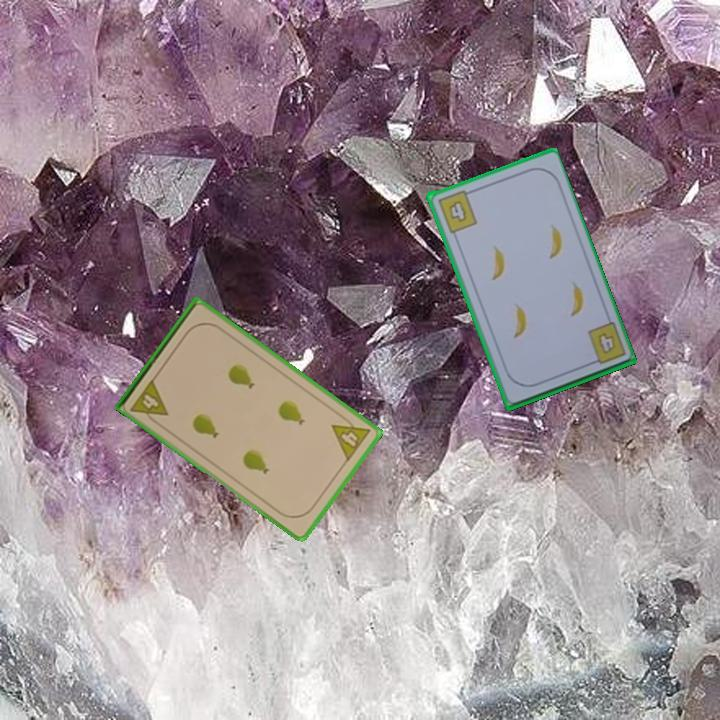4b: (434, 186, 480, 236), (594, 329, 618, 355)
4p: (328, 410, 373, 464), (127, 375, 171, 428)
